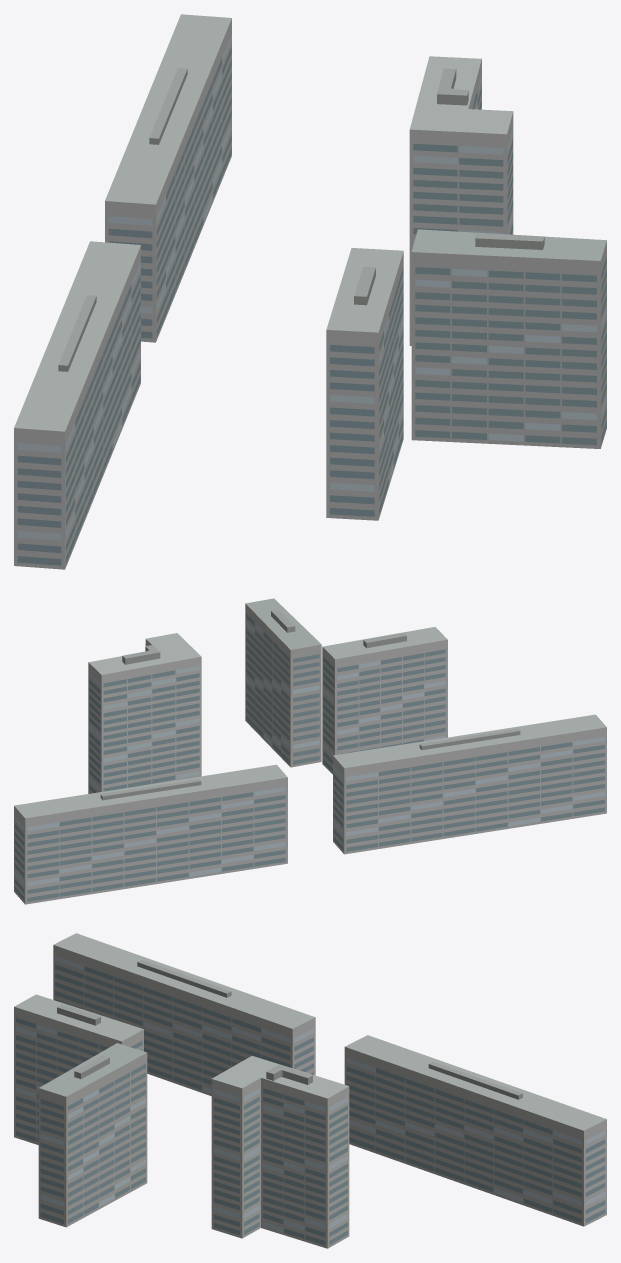
File: apt-a13790717.glb
3 views of the same model, one above another, from view 1: azimuth 30°, elevation 25°; view 2: azimuth 150°, elevation 25°; view 3: azimuth 270°, elevation 25° (orthographic). The views are drawn at different scales.
Visible parts, largest first — view 1: apt-a13790717; view 2: apt-a13790717; view 3: apt-a13790717.
Boxes of the visible parts, x1,y1,x2,y2 form: apt-a13790717: [14, 14, 606, 569]; apt-a13790717: [14, 598, 606, 904]; apt-a13790717: [14, 933, 606, 1248].
Size of the model in its own units: 165 by 55.01 by 188.
